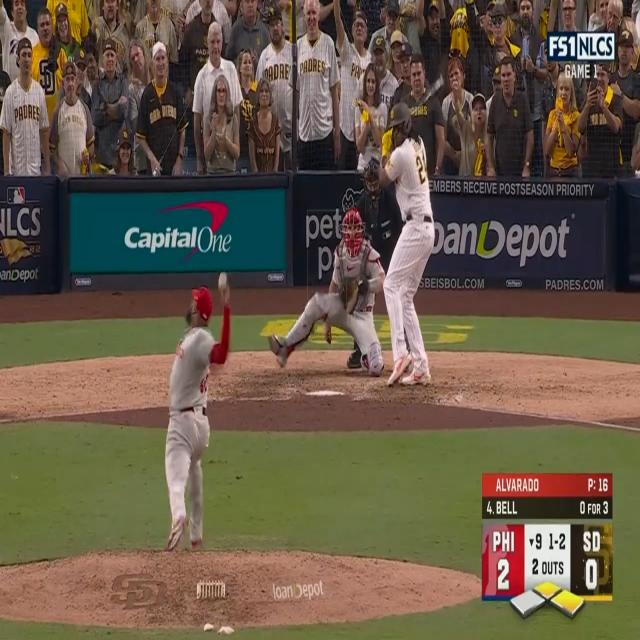baseball: (218, 270, 227, 289)
